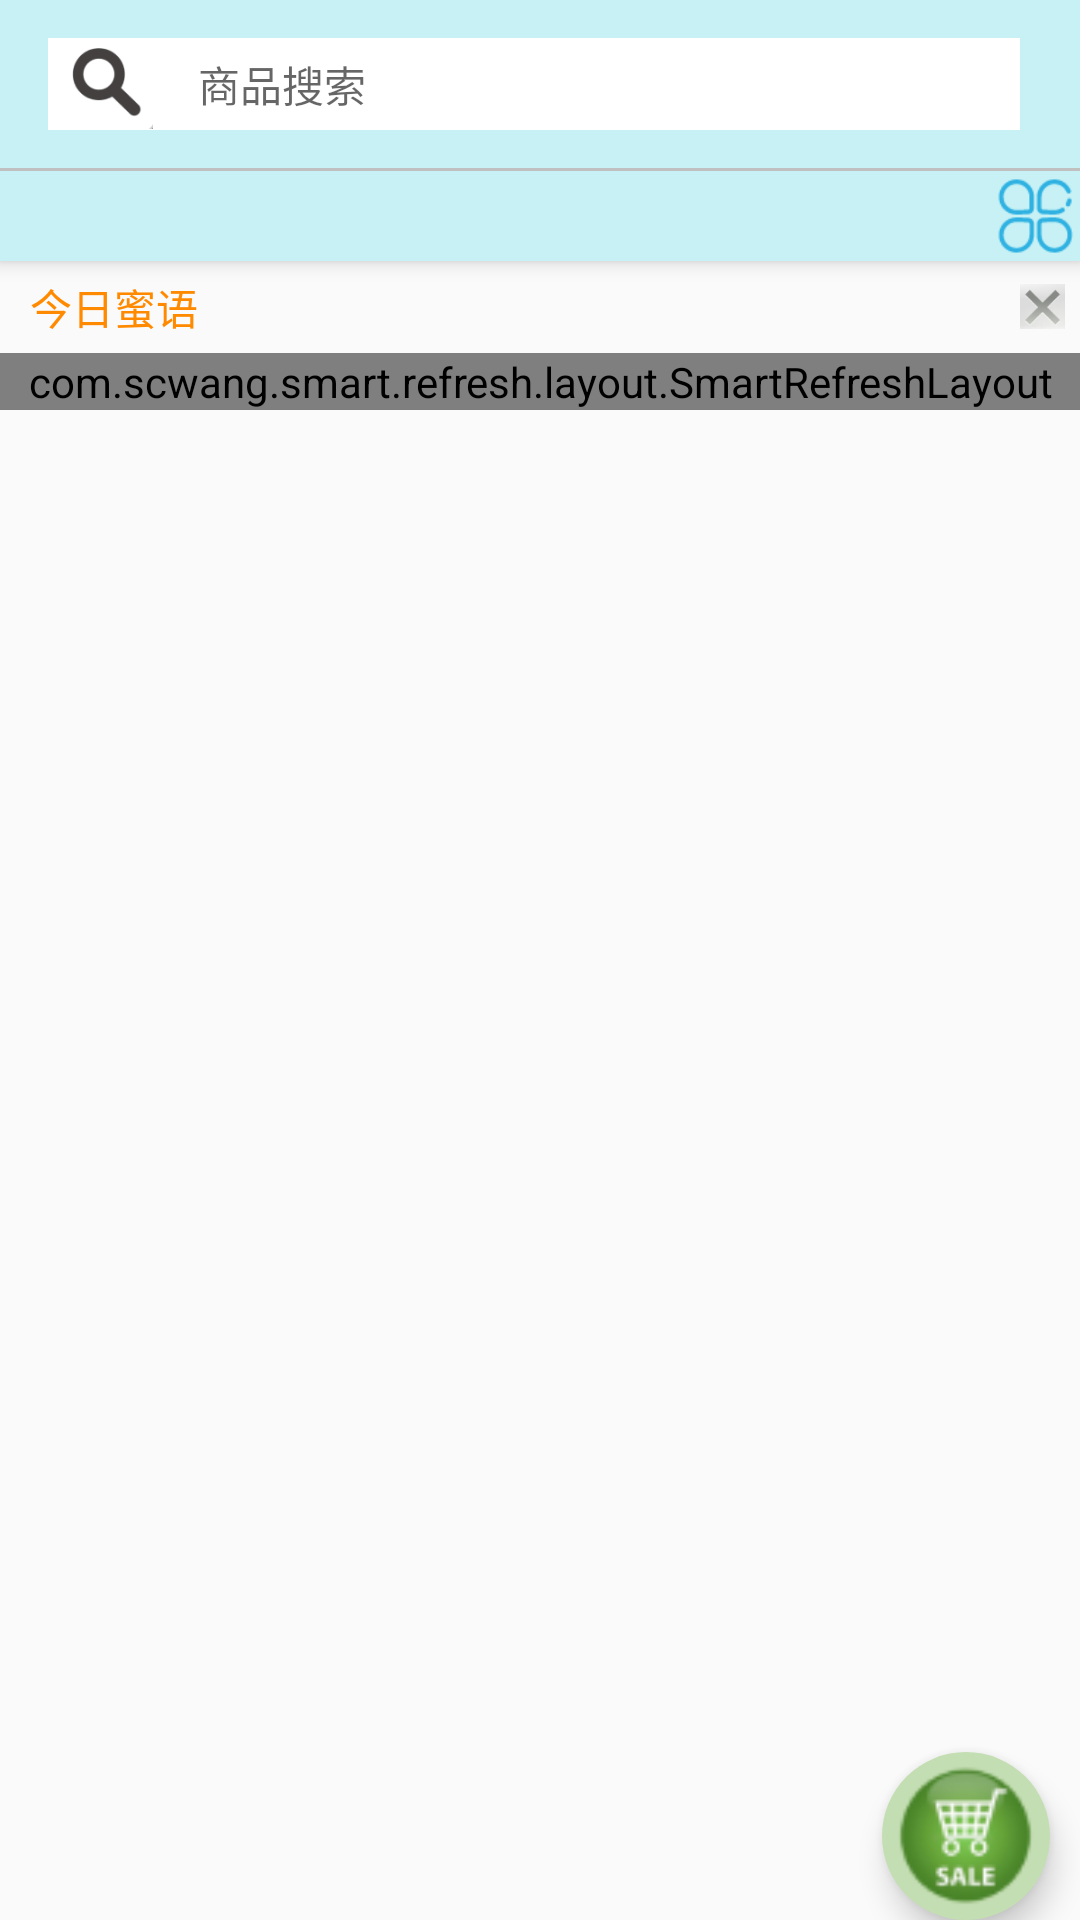

Icons on this 1080px×1920px Android screen, each with its box as (x1, y1, x2, y2):
honey close: (1020, 289, 1065, 326)
menubar classify: (998, 179, 1073, 253)
shoppingcart: (882, 1752, 1050, 1920)
